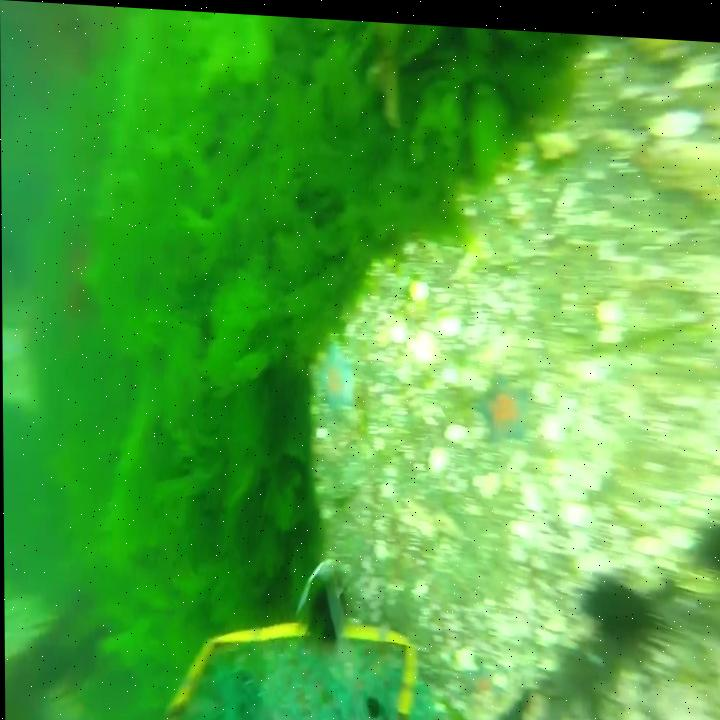echinus: (576, 560, 675, 655), (690, 504, 720, 575)
starfish: (470, 365, 537, 441), (314, 336, 360, 412)
